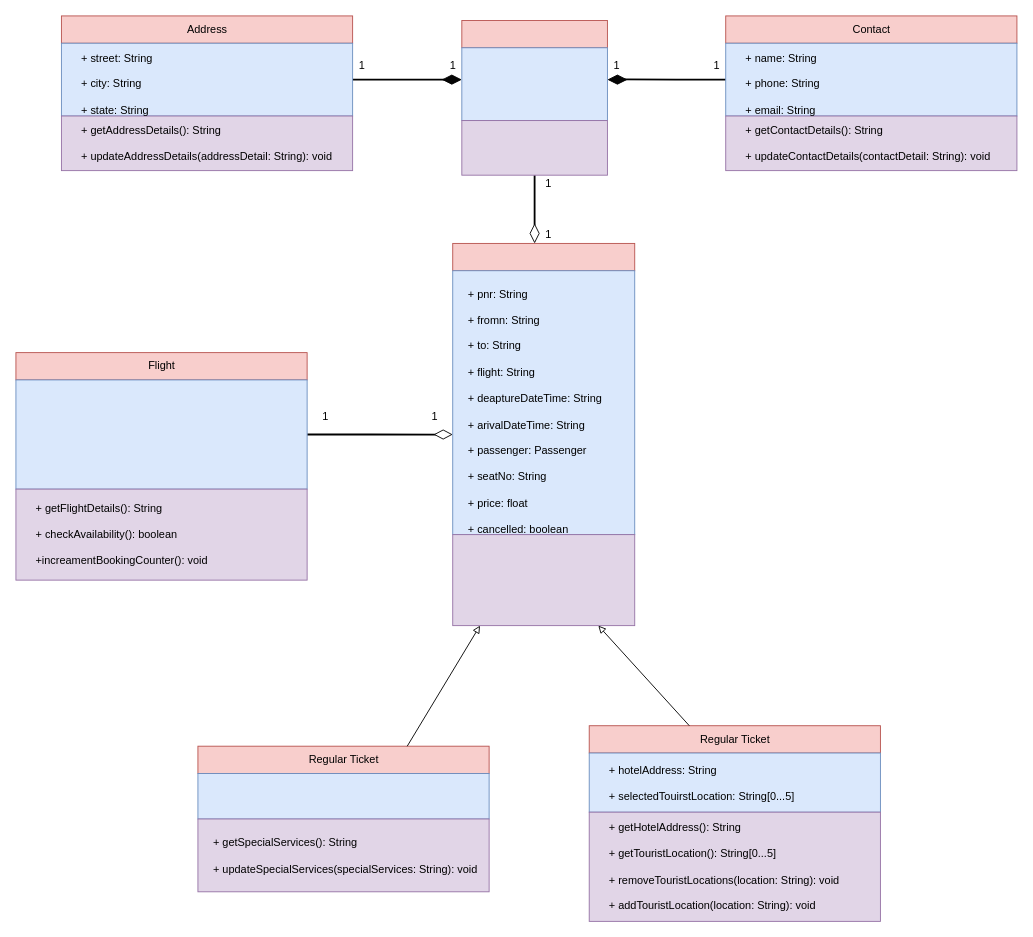
This 1033x937 diagram has some shape labels left out. Each missing label, with the centre of its shape:
"+ checkStatus(): String + getFlightDuration(): int + cancel(): void" belongs at pixel 543 580.
"+ flightNumber: String + airline: String + capacity: int - bookedSeats: int" belongs at pixel 161 434.
"+ getContact(): Contact + getAddress(): Address" belongs at pixel 534 147.
"+ id: int + address: Address + contact: Contact" belongs at pixel 534 84.
"+ specialServices: String" belongs at pixel 343 796.
"Passenger" belongs at pixel 534 34.
"Ticket" belongs at pixel 543 257.
